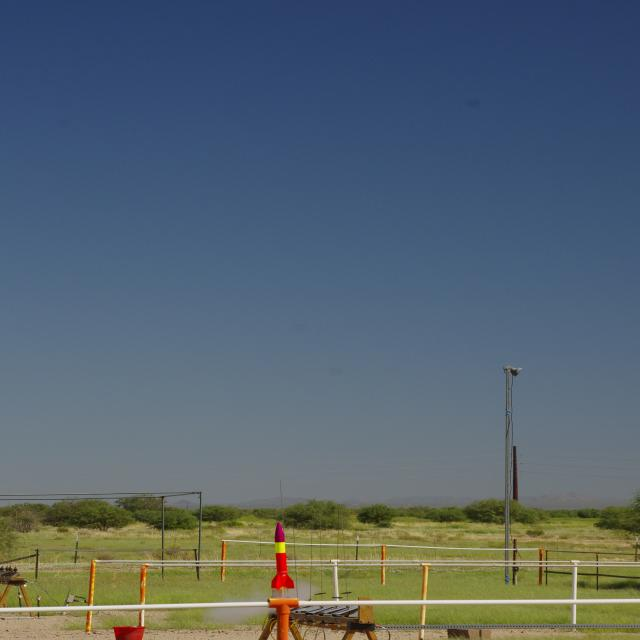Rocket: (269, 520, 296, 590)
